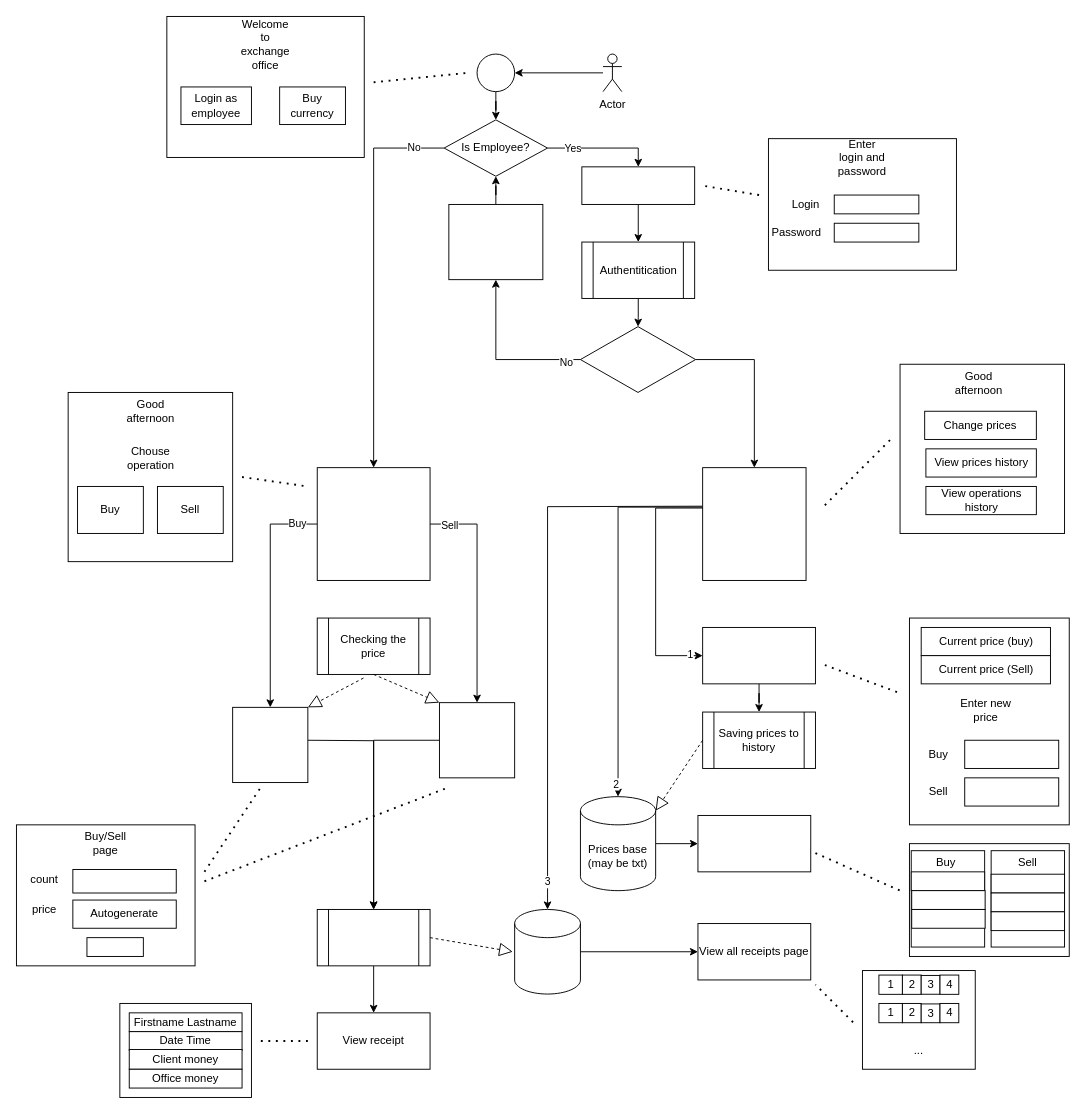
This 1086x1114 diagram has some shape labels left out. The shapes that lost their labels are listed below. From the top down, each one's centre as x and y in pixels, then its label:
the point at 495,72: Start
the point at 638,185: Login Page
the point at 495,242: "Incorrect login or/and password" (MessageBox?)
the point at 638,359: Is Authentiticated?
the point at 373,523: Customer view 1) Buy currency 2)Sell currency
the point at 754,523: Administrator view 1) Change prices 2)View prices history 3)View all receipts
the point at 758,655: Changing price page
the point at 270,744: Buy currency view
the point at 477,740: Sell currency view
the point at 754,843: View prices history page
the point at 124,881: Enter
the point at 114,946: Submit
the point at 373,937: Saving receipt
the point at 547,951: Receipts base (may be txt)
